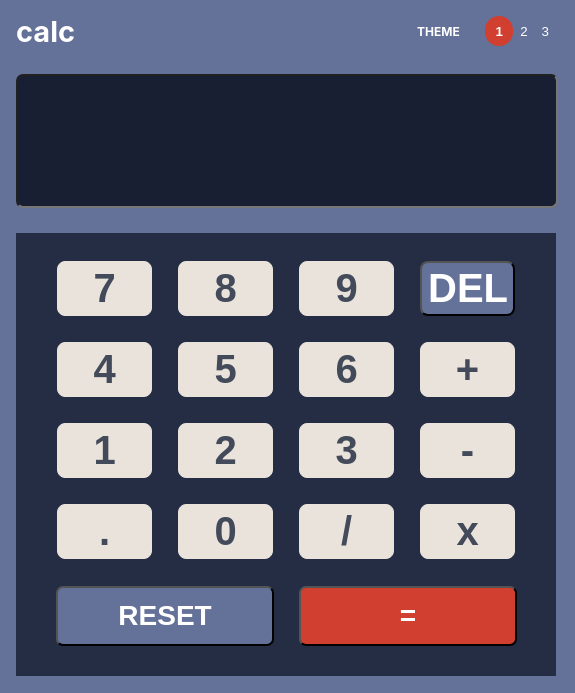
Test: Main › should add two values
Click the button "8": click(226, 288) [178,261,273,316]
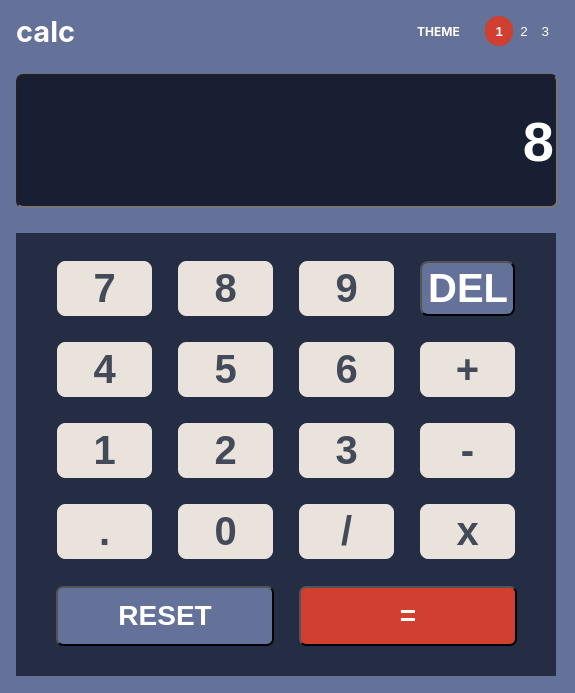
Click the button "+": click(468, 370) [420,342,515,397]
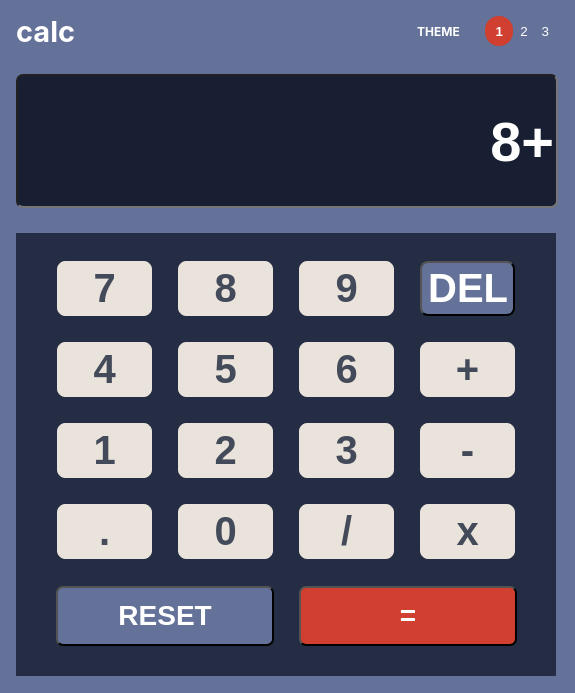
Click the button "9": click(346, 288) [299,261,394,316]
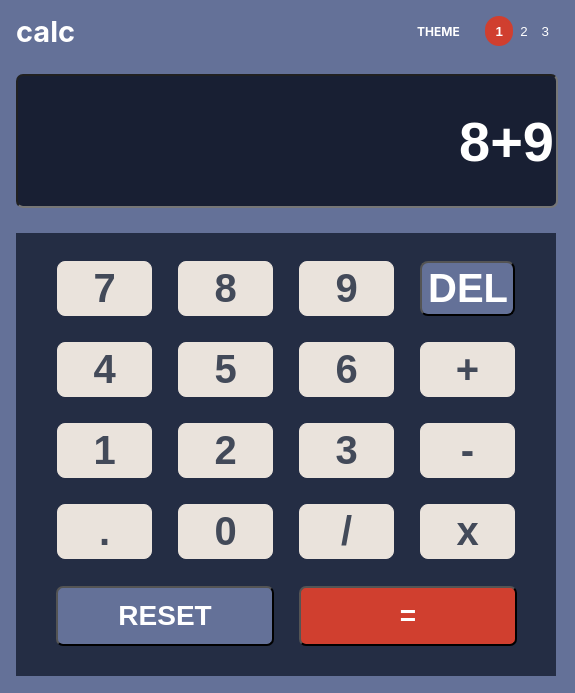
Click the button "=": click(408, 616) [299,586,517,646]
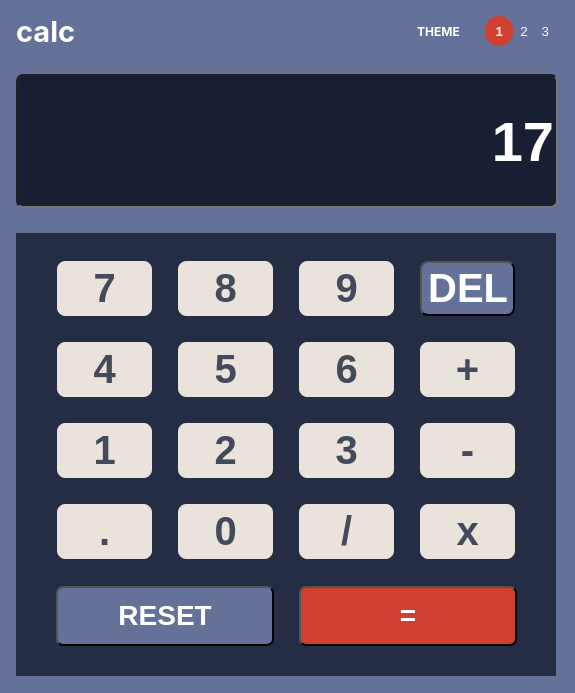
Expected: the field holds "17", [16,74,558,208]
